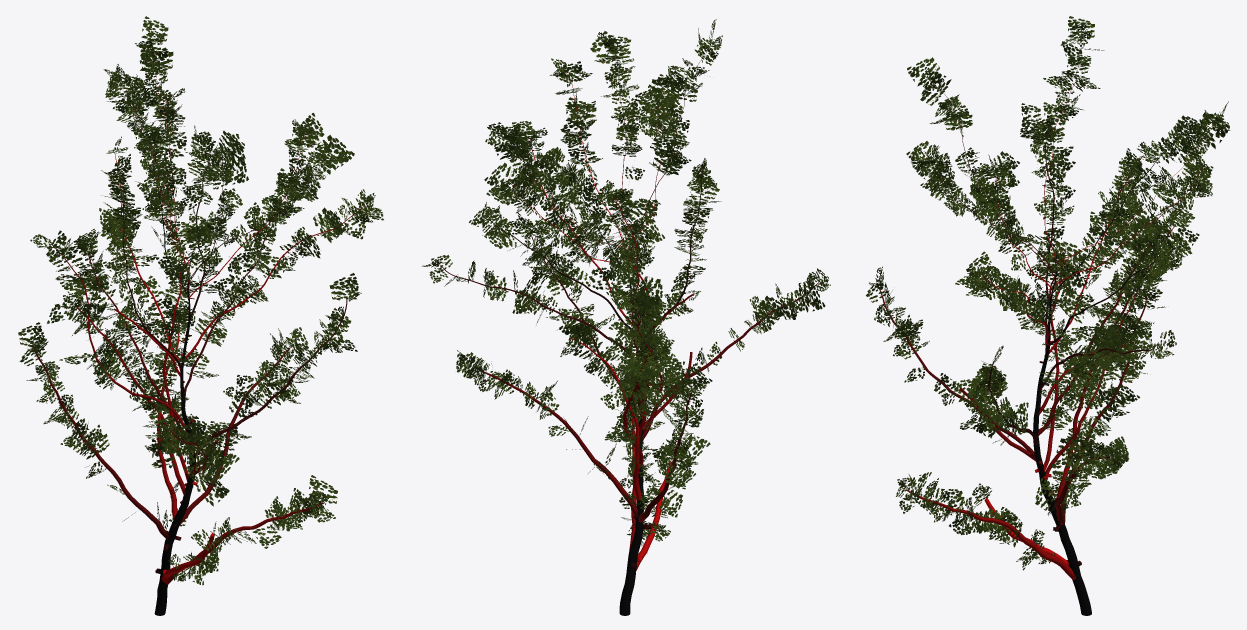
The model's file is Tree_24.fbx.
3 views of the same model, side by side, from view 1: azimuth 30°, elevation 25°; view 2: azimuth 150°, elevation 25°; view 3: azimuth 270°, elevation 25° (orthographic). The views are drawn at different scales.
Visible parts, largest first — view 1: Tree_23; view 2: Tree_23; view 3: Tree_23.
Part boxes in pixels (left/top/right/bottom): Tree_23: left=18, top=16, right=383, bottom=615; Tree_23: left=422, top=19, right=830, bottom=615; Tree_23: left=866, top=16, right=1230, bottom=615.
Bounding box in the file's own units: 3194 × 6061 × 3570.
